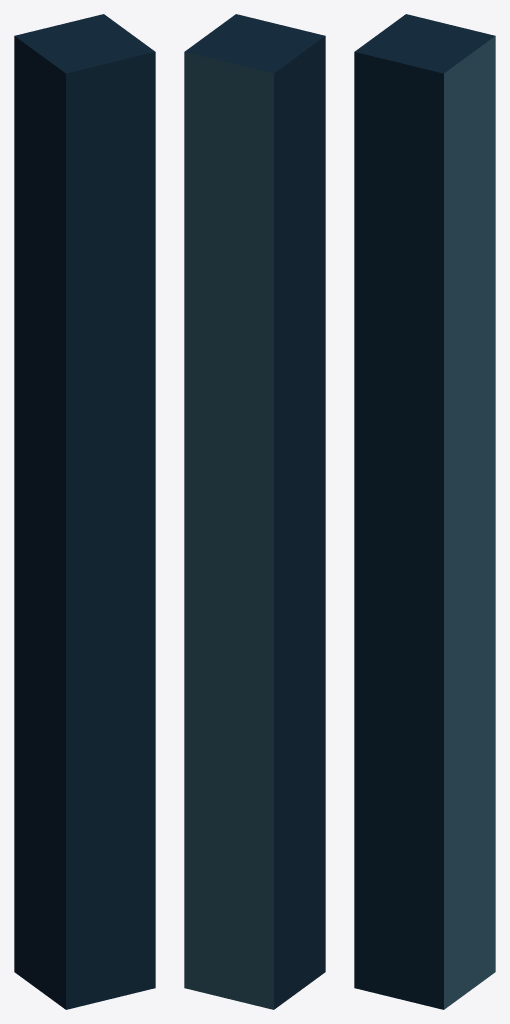
File: Jellyfish_Anchor.fbx
3 views of the same model, side by side, from view 1: azimuth 30°, elevation 25°; view 2: azimuth 150°, elevation 25°; view 3: azimuth 330°, elevation 25° (orthographic).
Parts seen in each view (by area): view 1: Anchor; view 2: Anchor; view 3: Anchor.
Boxes of the visible parts, x1,y1,x2,y2 form: Anchor: [14, 14, 155, 1009]; Anchor: [184, 14, 325, 1009]; Anchor: [354, 14, 495, 1009].
Size of the model in its own units: 10 by 100 by 10.
